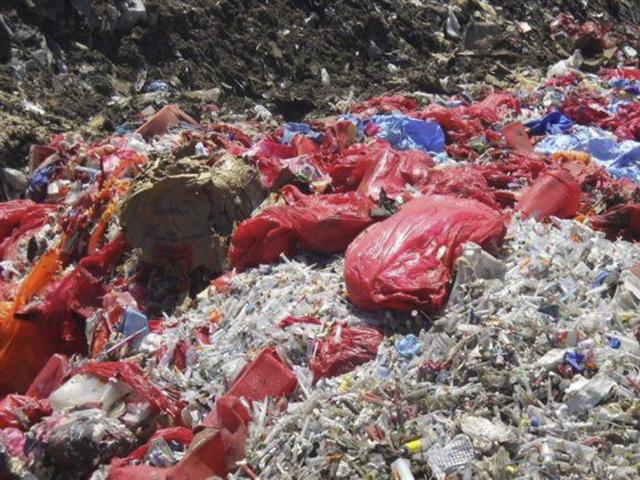garbage: (12, 104, 618, 470)
